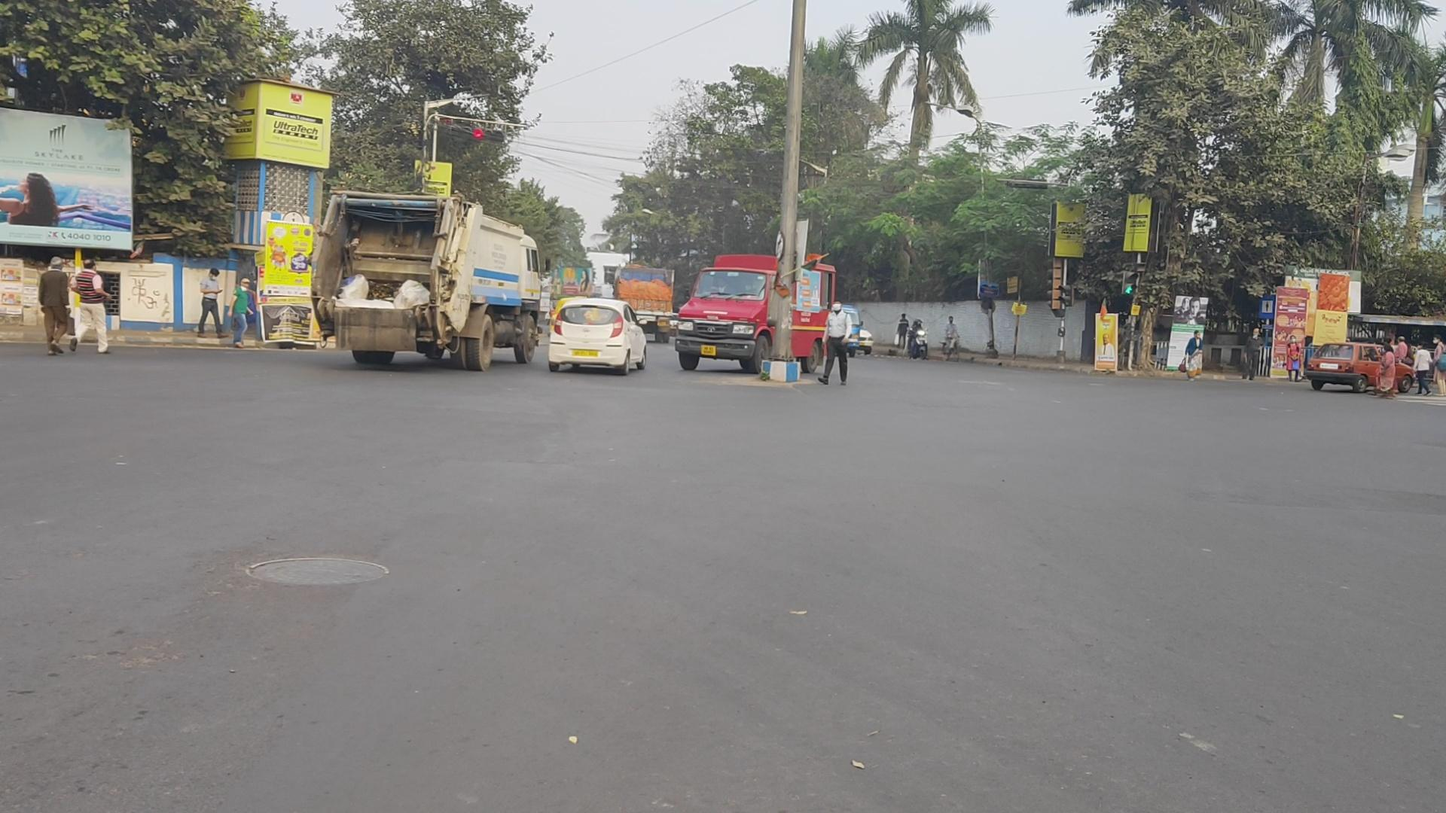bike: (939, 315, 962, 363), (907, 319, 930, 361)
car: (548, 297, 648, 376), (1303, 341, 1416, 394)
truck: (312, 186, 551, 372), (676, 254, 837, 375), (612, 263, 675, 343)
